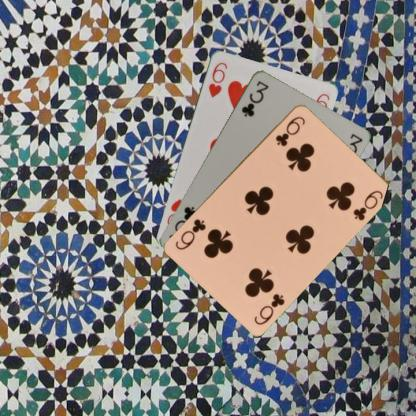3c: (238, 78, 270, 118)
6c: (251, 290, 286, 326), (273, 113, 306, 148)
6h: (206, 59, 228, 99)
